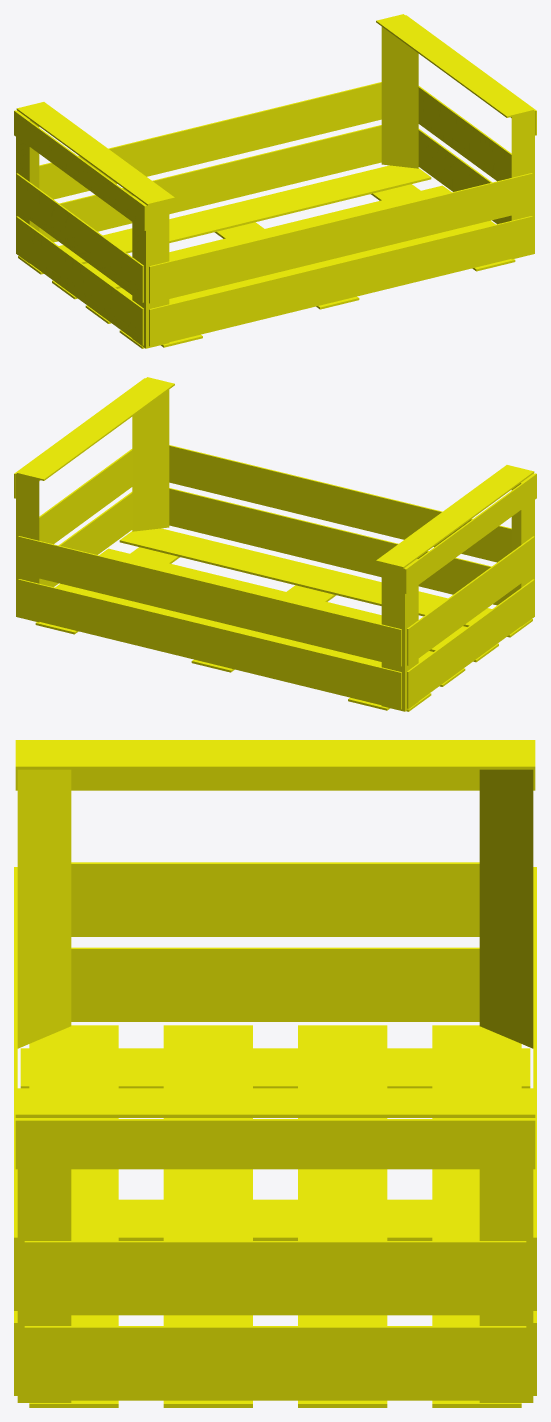
The picture shows the model from 3 angles, top to bottom: view 1: azimuth 30°, elevation 25°; view 2: azimuth 150°, elevation 25°; view 3: azimuth 270°, elevation 25°; orthographic projection. The views are drawn at different scales.
Parts seen in each view (by area): view 1: Crate-01; view 2: Crate-01; view 3: Crate-01.
Part boxes in pixels (<box>): Crate-01: <box>14,14,536,348</box>; Crate-01: <box>14,377,536,711</box>; Crate-01: <box>14,740,536,1407</box>.
Bounding box in the file's own units: 0.502 × 0.182 × 0.292.
Materials: 1 (1 with a texture image).
